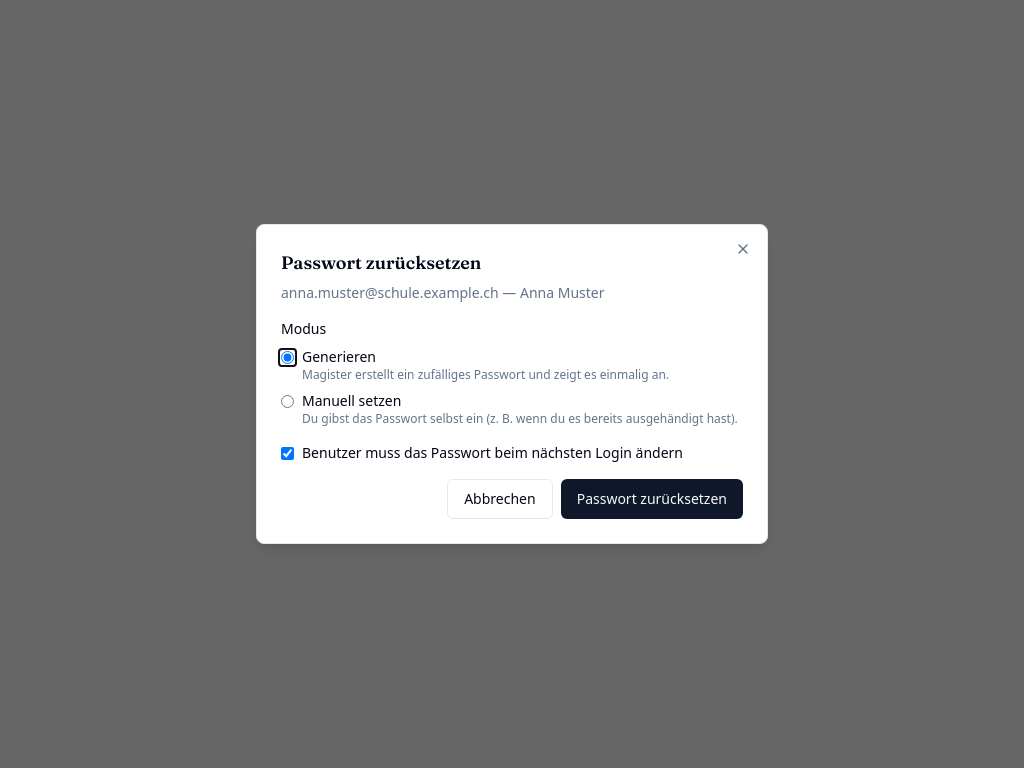
Scenario: ResetPasswordModal › submits generate mode and reveals the one-time password
The image size is (1024, 768).
Check: the text "anna.muster@schule.example.ch — Anna Muster" is shown, box top-left (281, 283), bottom-right (604, 302)
Click the button "Passwort zurücksetzen" at x=652, y=499, box top-left (561, 479), bottom-right (743, 519)
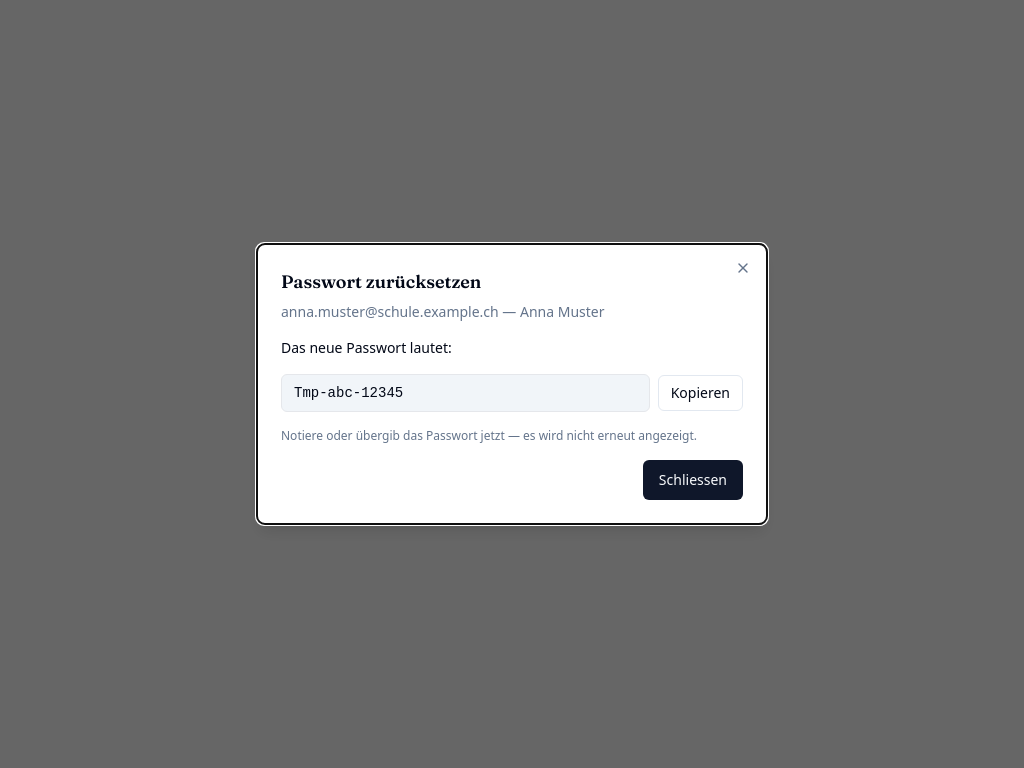
Check: the text "Tmp-abc-12345" is shown, box top-left (281, 374), bottom-right (650, 412)
Check: the text "wird nicht erneut angezeigt" is shown, box top-left (281, 427), bottom-right (697, 444)
